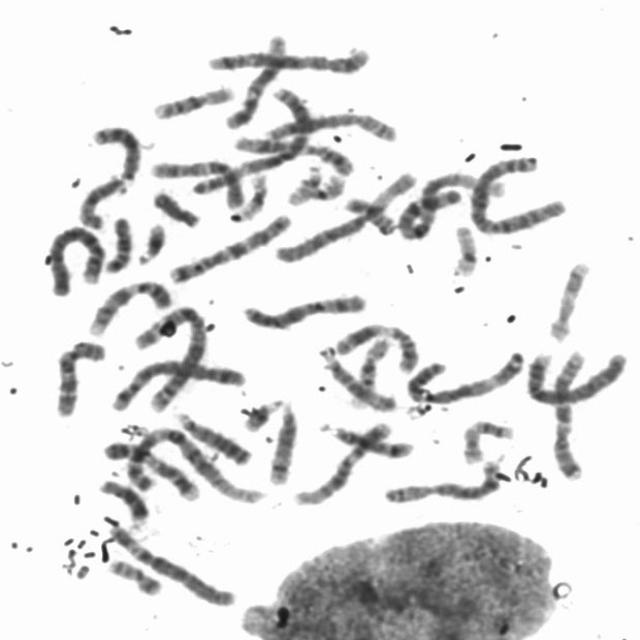A1: (106, 426, 266, 506), (390, 165, 512, 242)
A2: (464, 151, 572, 237), (138, 299, 211, 415)
A3: (187, 83, 317, 197), (402, 346, 528, 405)
B4: (519, 345, 632, 407), (44, 220, 110, 298)
B5: (104, 354, 249, 413), (200, 42, 373, 76)
C10: (146, 153, 246, 209), (50, 334, 110, 419)
C11: (229, 130, 357, 177), (329, 317, 422, 375)
C12: (288, 417, 394, 508), (220, 28, 290, 131)
C6: (269, 165, 420, 264), (101, 519, 239, 608)
C7: (165, 209, 295, 285), (546, 346, 591, 482)
C8: (378, 456, 505, 506), (260, 108, 402, 144)
C9: (99, 436, 202, 502), (82, 273, 174, 338)
D13: (171, 407, 256, 468), (86, 121, 144, 186)
D14: (318, 420, 415, 460), (264, 397, 300, 488)
D15: (316, 347, 401, 414), (73, 170, 128, 230)
E16: (148, 80, 238, 121), (344, 332, 390, 410)
E17: (544, 256, 593, 343), (457, 415, 515, 466)
E18: (94, 474, 150, 526), (99, 212, 135, 274)
F19: (228, 169, 272, 222), (447, 220, 481, 278)
F20: (340, 191, 400, 237), (103, 553, 164, 597)
G21: (238, 393, 286, 434), (132, 218, 168, 266)
G22: (283, 160, 325, 207), (306, 174, 349, 204)
X: (238, 288, 370, 331)
Y: (148, 185, 203, 229)
